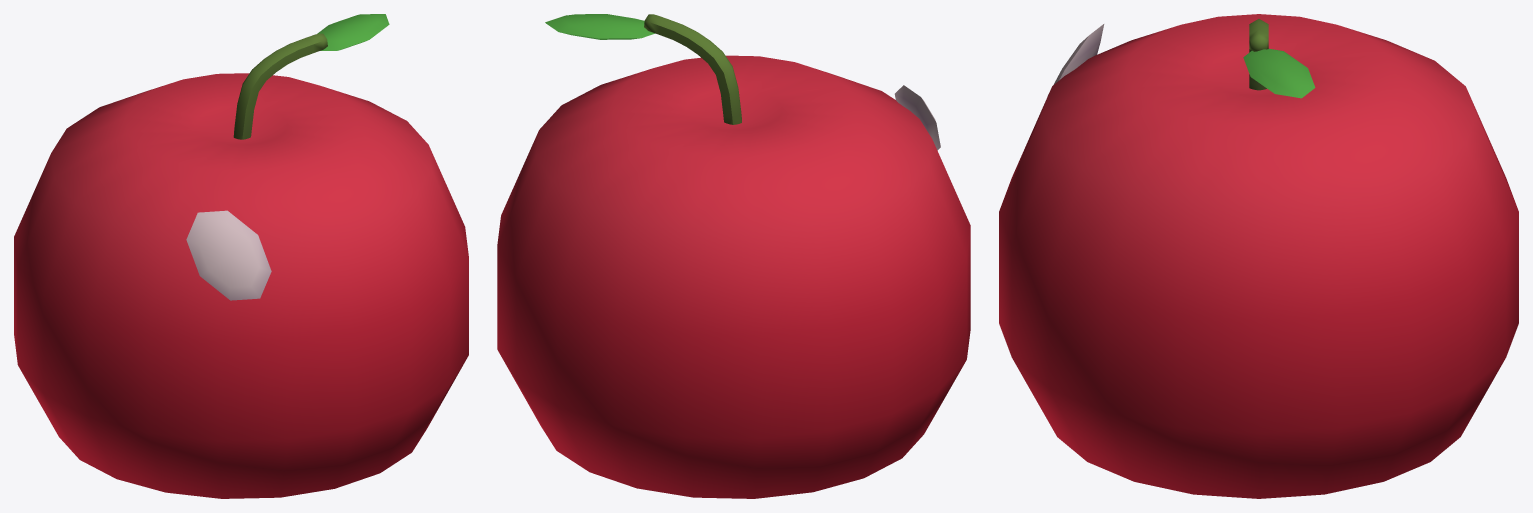
File: cherry.glb
3 views of the same model, side by side, from view 1: azimuth 30°, elevation 25°; view 2: azimuth 150°, elevation 25°; view 3: azimuth 270°, elevation 25° (orthographic). The views are drawn at different scales.
Parts seen in each view (by area): view 1: body; view 2: body; view 3: body.
Boxes of the visible parts, left/top/right/bottom form: body: left=14, top=14, right=468, bottom=498; body: left=497, top=14, right=970, bottom=498; body: left=999, top=14, right=1518, bottom=498.
Bounding box in the file's own units: 0.2552 × 0.24 × 0.2552.
